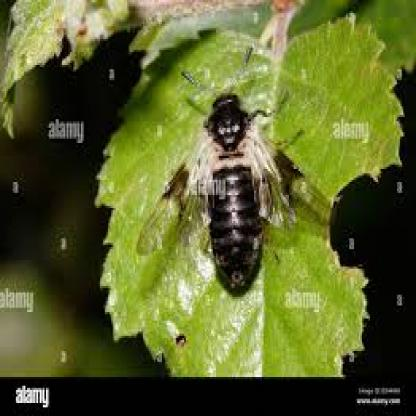sawfly: (135, 49, 314, 301)
